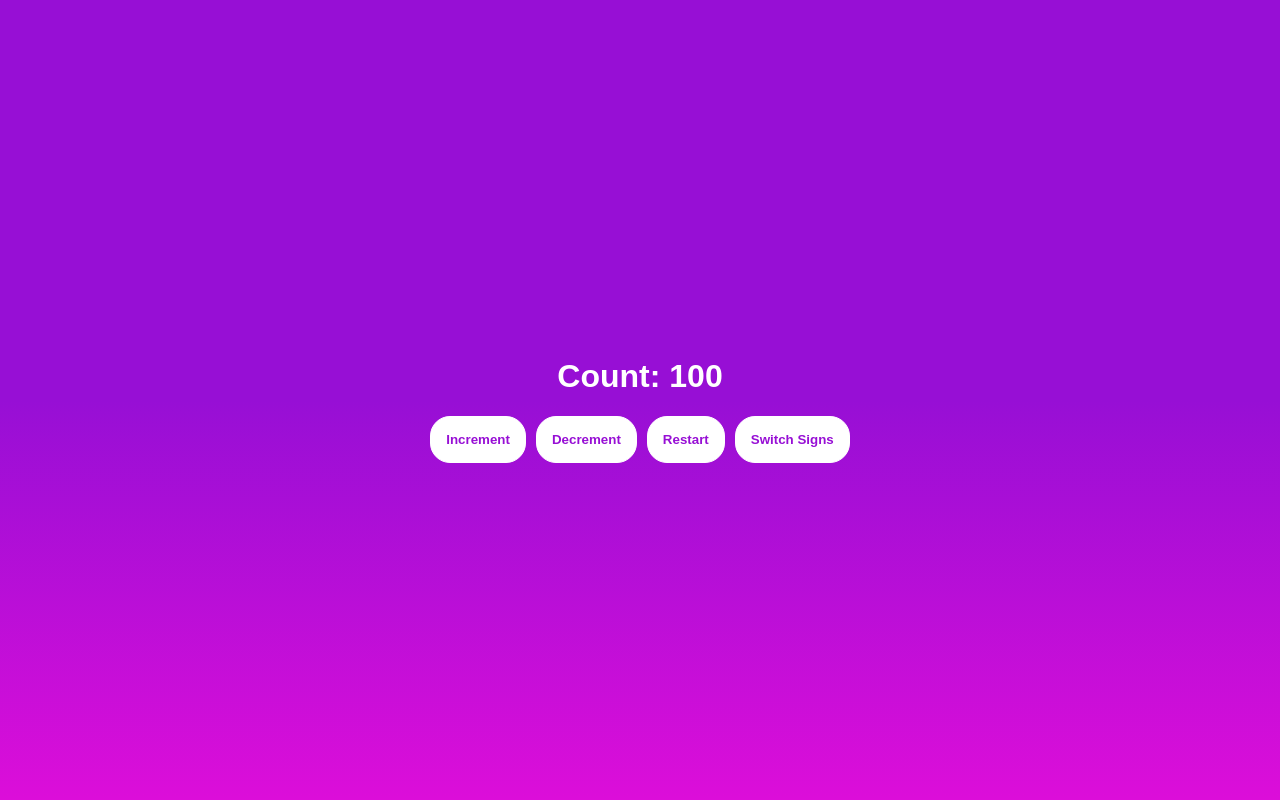
Scenario: Counter App › Reset the counter should to be 100
Click the button "Increment" at (478, 440), box [430,416,526,463]
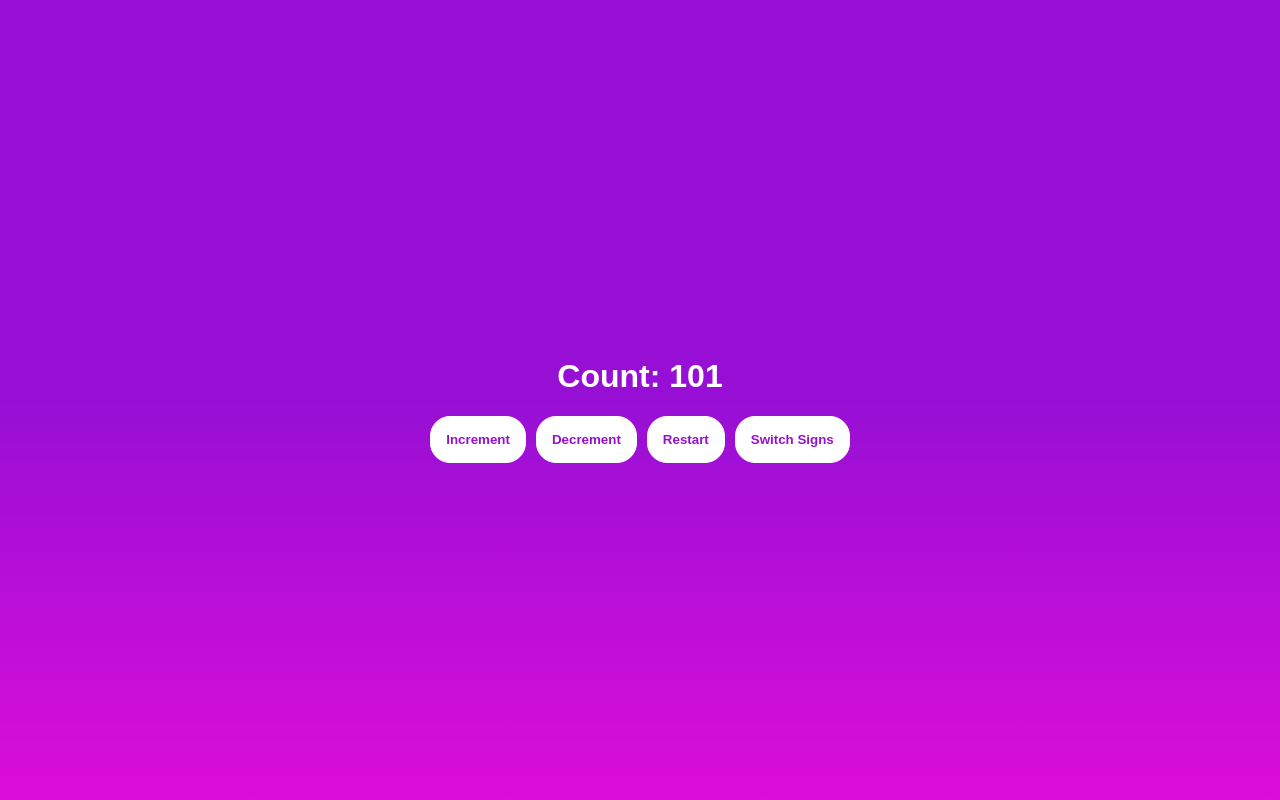
Click the button "Increment" at (478, 440), box [430,416,526,463]
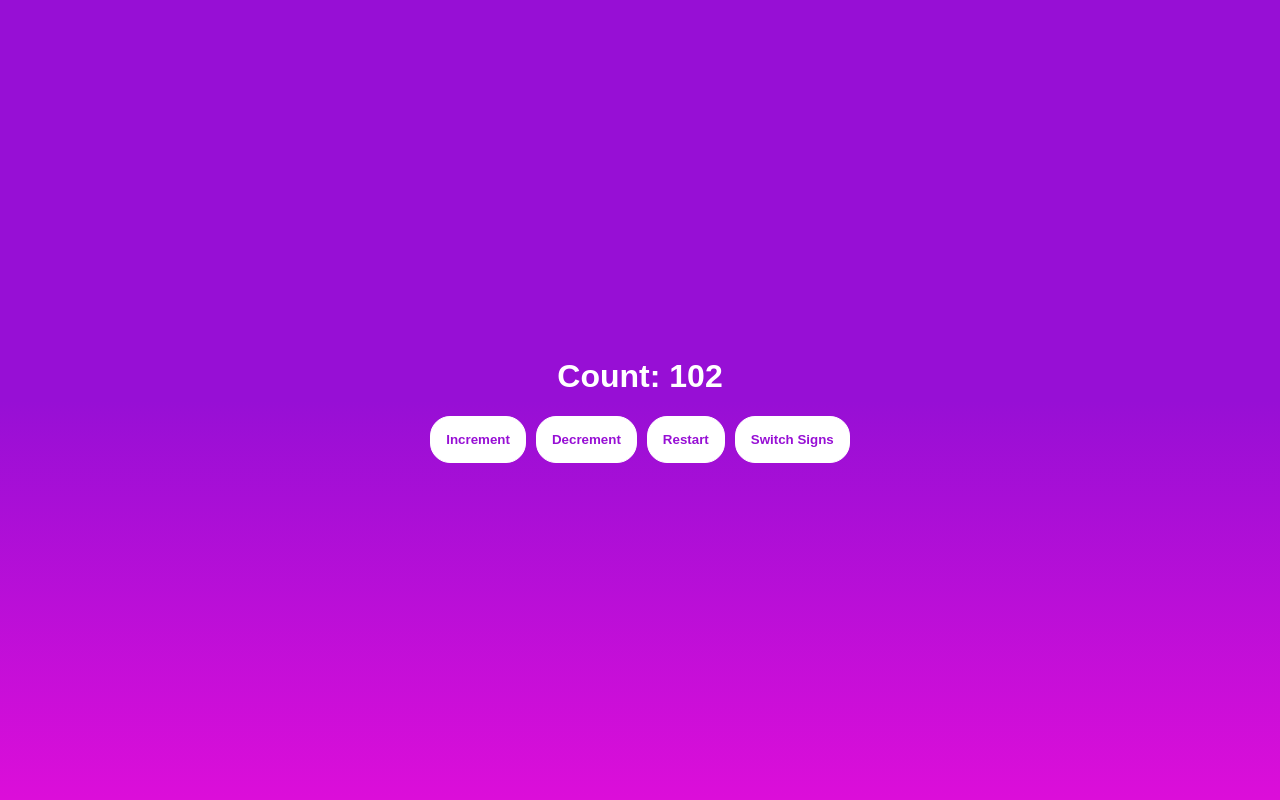
Click the button "Increment" at (478, 440), box [430,416,526,463]
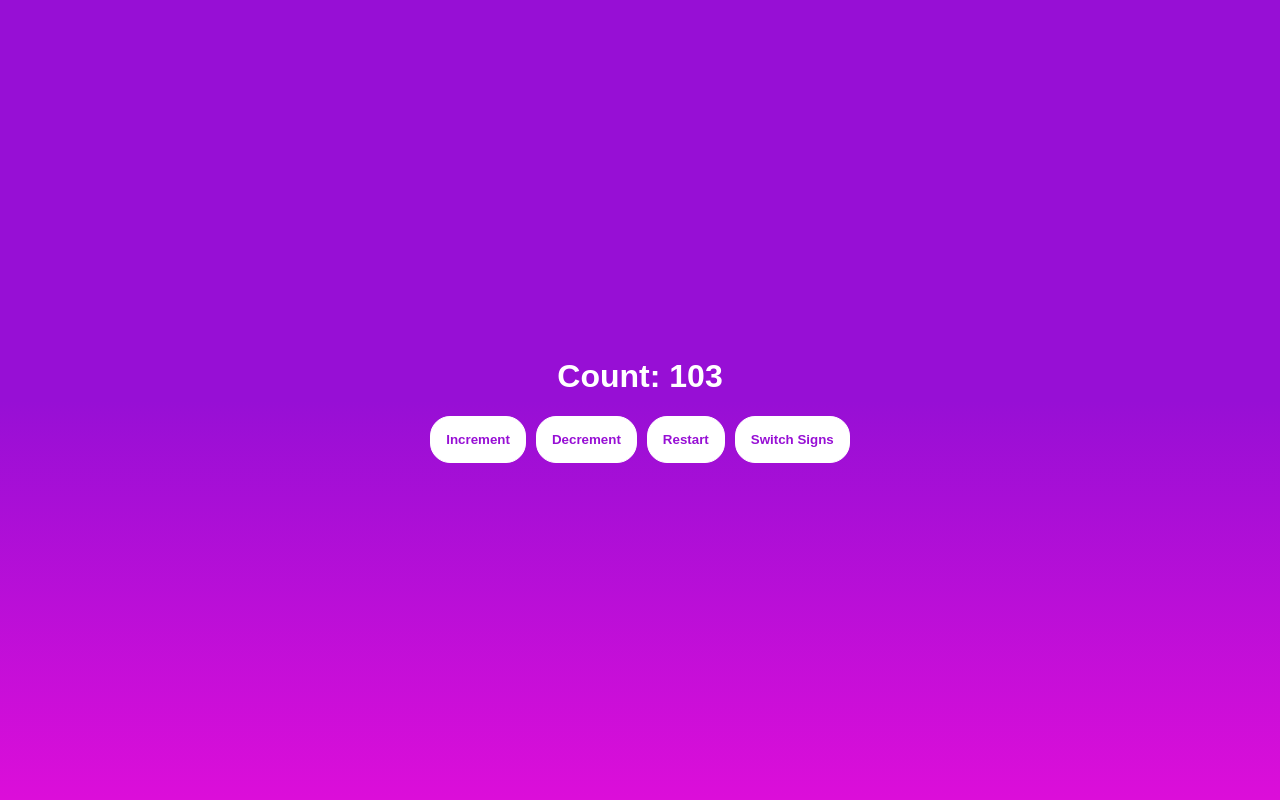
Click the button "Restart" at (686, 440), box [647,416,725,463]
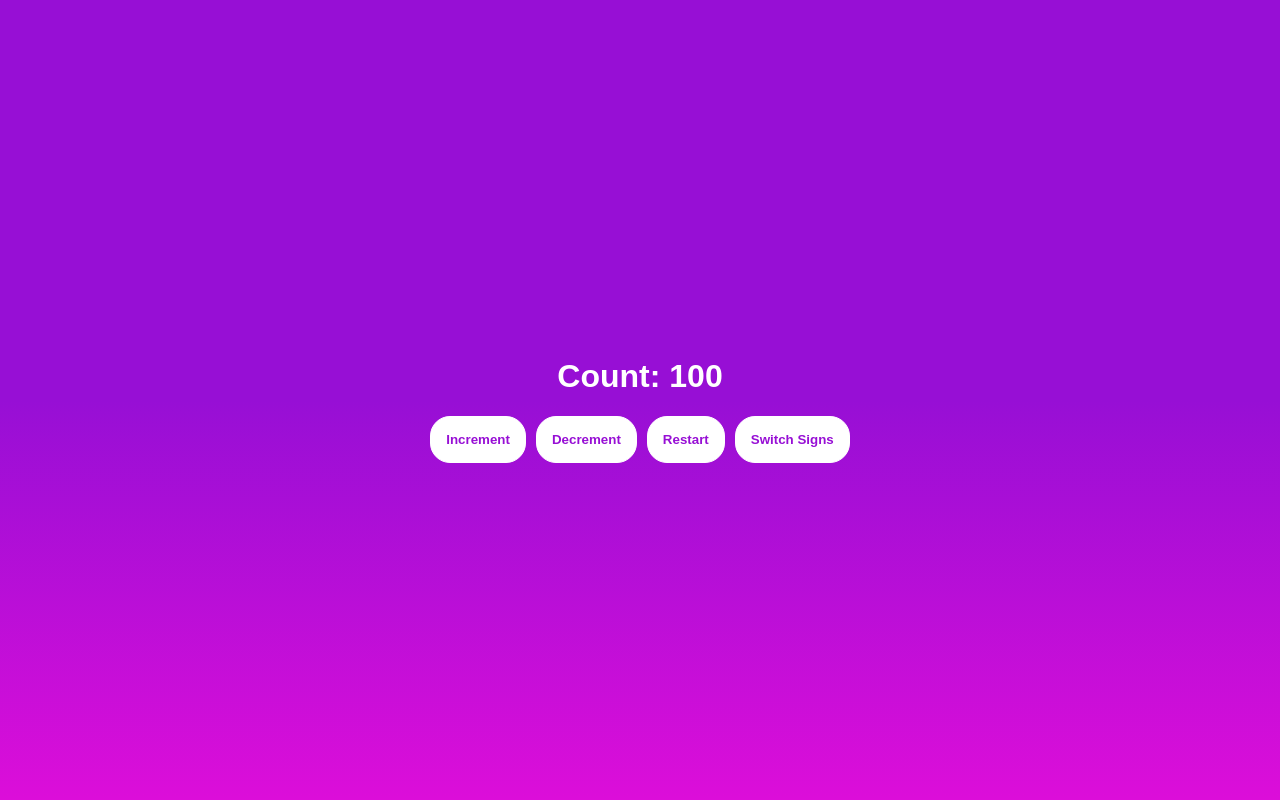
Now the heading "Count: 100" is shown, box [557,358,723,395]
